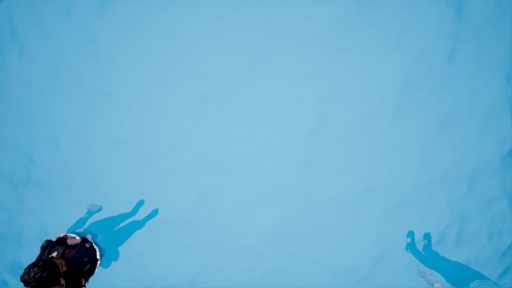person: (15, 203, 168, 288)
